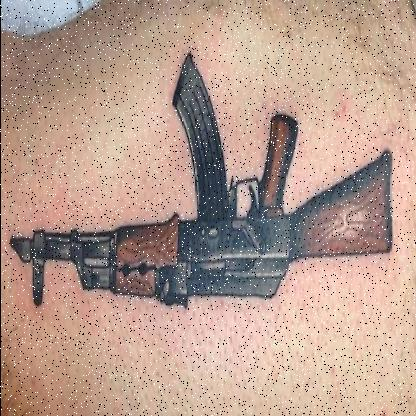rifle: (6, 43, 396, 314)
